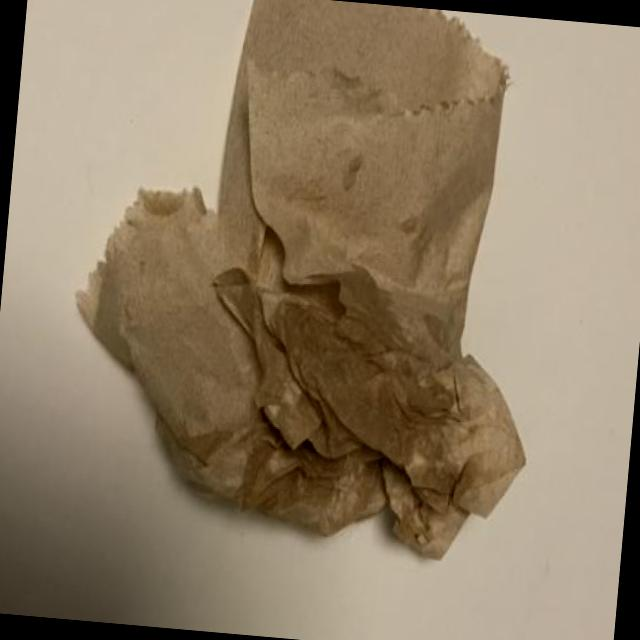giay: (77, 0, 524, 562)
